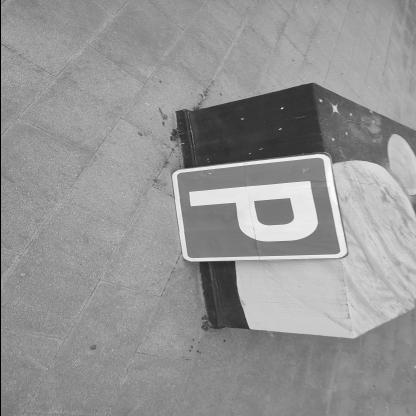Parking-Sign: (171, 154, 349, 264)
